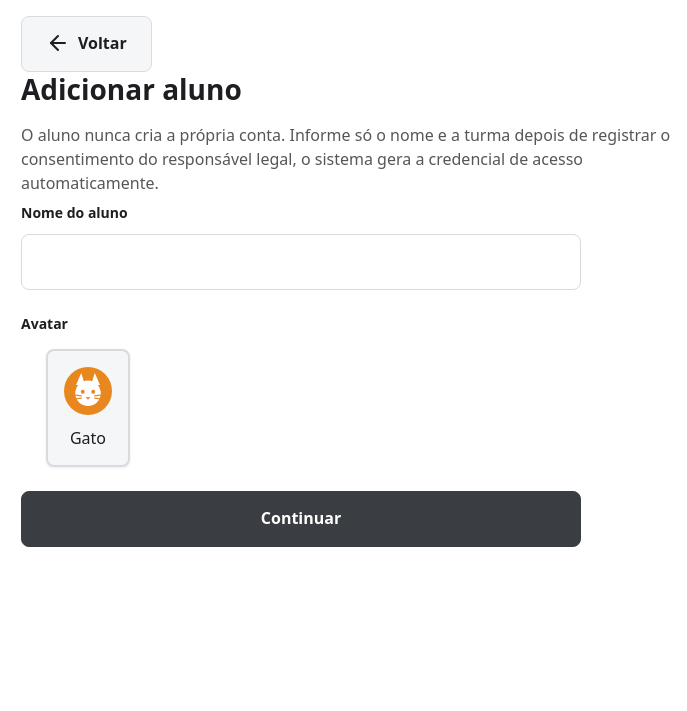
Scenario: TeacherAddStudent - passo 2 (responsável legal, A2) › AC1/AC2 - blocks continuing without an explicit consent confirmation
The image size is (687, 711).
Type "Aluno Teste" into the field labelled "Nome do aluno". click: (301, 262)
box: [21,234,581,290]
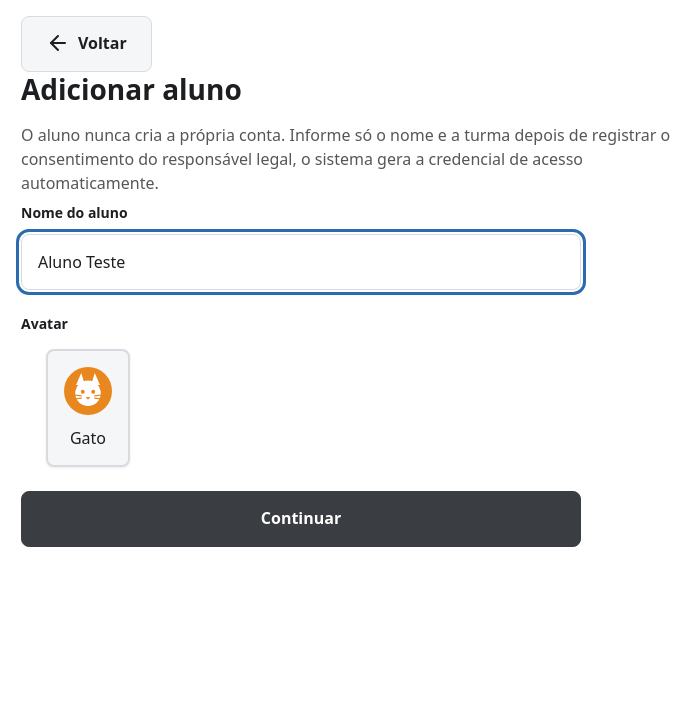
Click the button "Continuar". click: (301, 519)
box: [21,491,581,547]
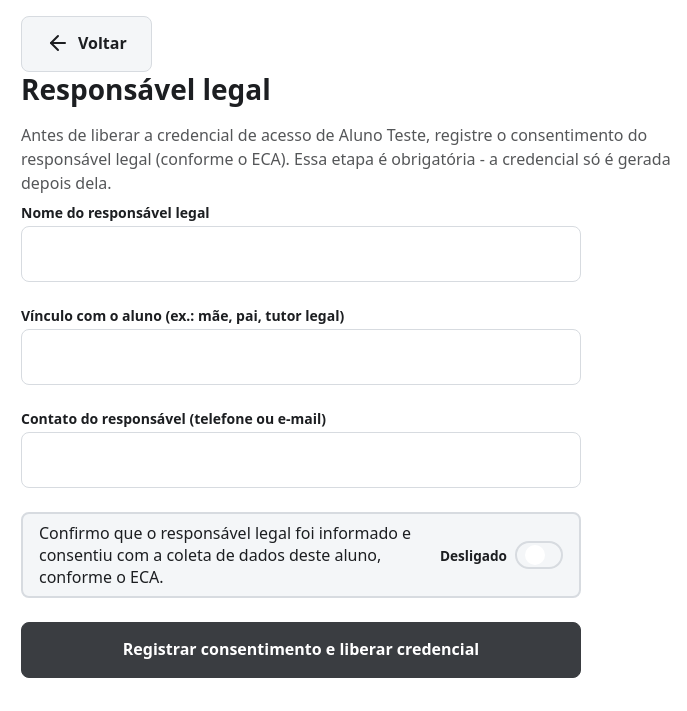
Type "Maria Silva" into the field labelled "Nome do responsável legal". click: (301, 254)
box: [21,226,581,282]
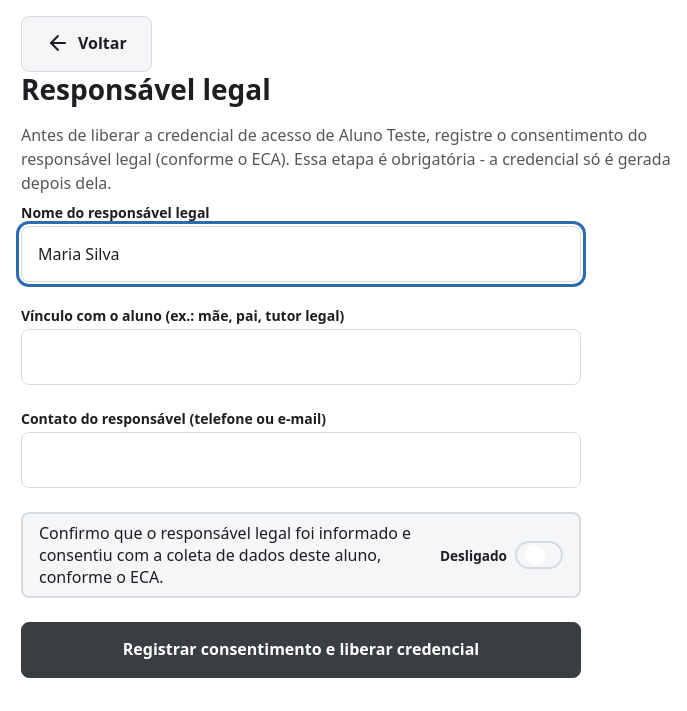
Type "Mãe" into the field labelled "Vínculo com o aluno (ex.: mãe, pai, tutor legal)". click: (301, 357)
box: [21,329,581,385]
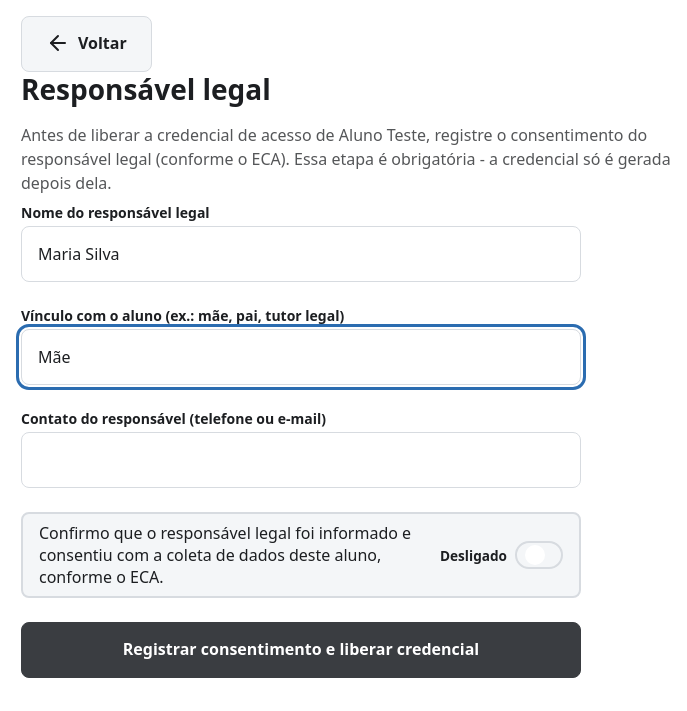
Type "11999990000" into the field labelled "Contato do responsável (telefone ou e-mail)". click: (301, 460)
box: [21,432,581,488]
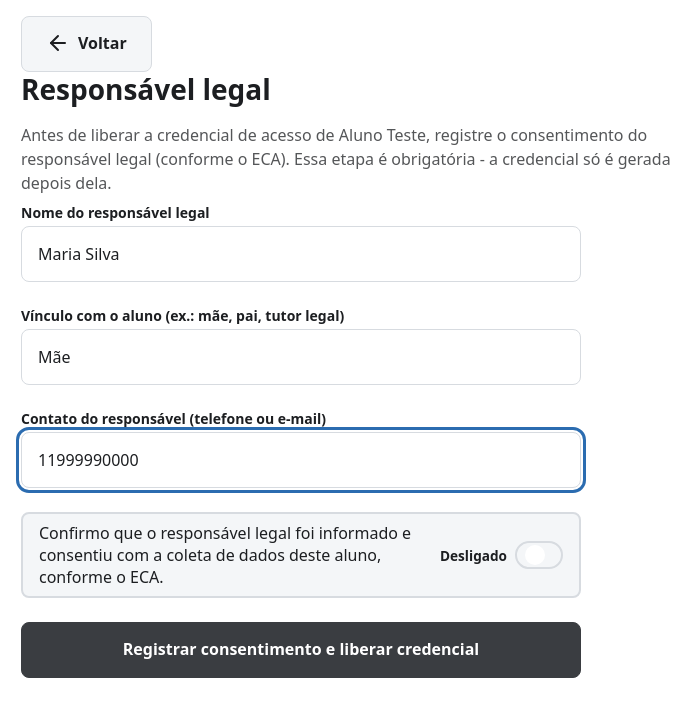
Click the button "Registrar consentimento e liberar credencial". click: (301, 650)
box: [21,622,581,678]
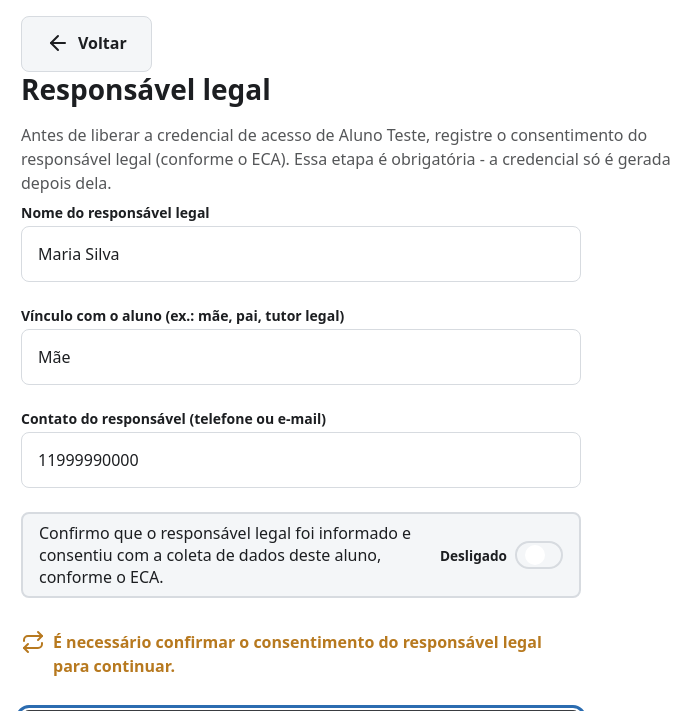
Check: the text "necessário confirmar o consentimento" is shown, box [53,631,542,677]
